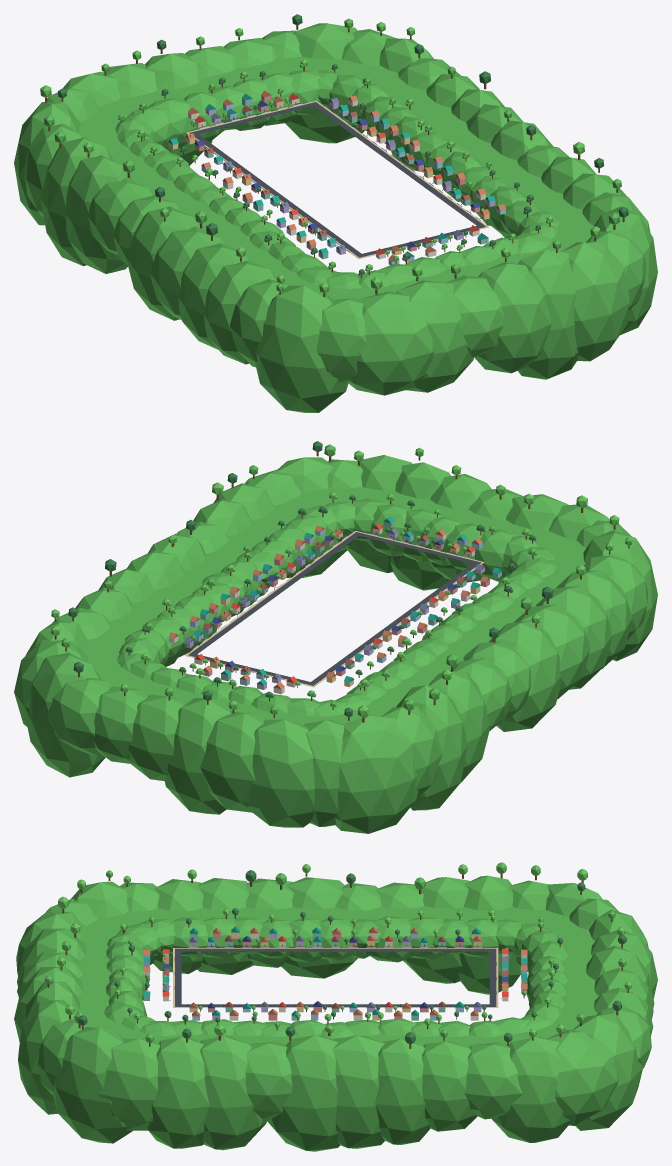
The model's file is CatCafe_Neighbourhood_BackdropF85.glb.
3 views of the same model, one above another, from view 1: azimuth 30°, elevation 25°; view 2: azimuth 150°, elevation 25°; view 3: azimuth 270°, elevation 25° (orthographic). The views are drawn at different scales.
Parts seen in each view (by area): view 1: CatCafe_Neighbourhood_BackdropF85_HillsFar, CatCafe_Neighbourhood_BackdropF85_Hills, CatCafe_Neighbourhood_BackdropF85_Ground, CatCafe_Neighbourhood_BackdropF85, CatCafe_Neighbourhood_BackdropF85_Road; view 2: CatCafe_Neighbourhood_BackdropF85_HillsFar, CatCafe_Neighbourhood_BackdropF85_Hills, CatCafe_Neighbourhood_BackdropF85_Ground, CatCafe_Neighbourhood_BackdropF85, CatCafe_Neighbourhood_BackdropF85_Road; view 3: CatCafe_Neighbourhood_BackdropF85_HillsFar, CatCafe_Neighbourhood_BackdropF85_Hills, CatCafe_Neighbourhood_BackdropF85_Ground, CatCafe_Neighbourhood_BackdropF85, CatCafe_Neighbourhood_BackdropF85_Road.
Boxes of the visible parts, <box> form: CatCafe_Neighbourhood_BackdropF85_HillsFar: <box>14,23,657,412</box>; CatCafe_Neighbourhood_BackdropF85_Hills: <box>115,70,559,289</box>; CatCafe_Neighbourhood_BackdropF85_Ground: <box>78,56,593,299</box>; CatCafe_Neighbourhood_BackdropF85: <box>40,14,628,297</box>; CatCafe_Neighbourhood_BackdropF85_Road: <box>189,102,485,257</box>; CatCafe_Neighbourhood_BackdropF85_HillsFar: <box>14,455,657,833</box>; CatCafe_Neighbourhood_BackdropF85_Hills: <box>117,498,556,716</box>; CatCafe_Neighbourhood_BackdropF85_Ground: <box>82,486,585,724</box>; CatCafe_Neighbourhood_BackdropF85: <box>51,441,632,722</box>; CatCafe_Neighbourhood_BackdropF85_Road: <box>188,532,481,685</box>; CatCafe_Neighbourhood_BackdropF85_HillsFar: <box>14,875,657,1151</box>; CatCafe_Neighbourhood_BackdropF85_Hills: <box>104,916,567,1037</box>; CatCafe_Neighbourhood_BackdropF85_Ground: <box>77,906,598,1047</box>; CatCafe_Neighbourhood_BackdropF85: <box>44,862,631,1048</box>; CatCafe_Neighbourhood_BackdropF85_Road: <box>175,948,496,1006</box>.
Bounding box in the file's own units: 709 × 230 × 989.
Materials: 1 (1 with a texture image).
